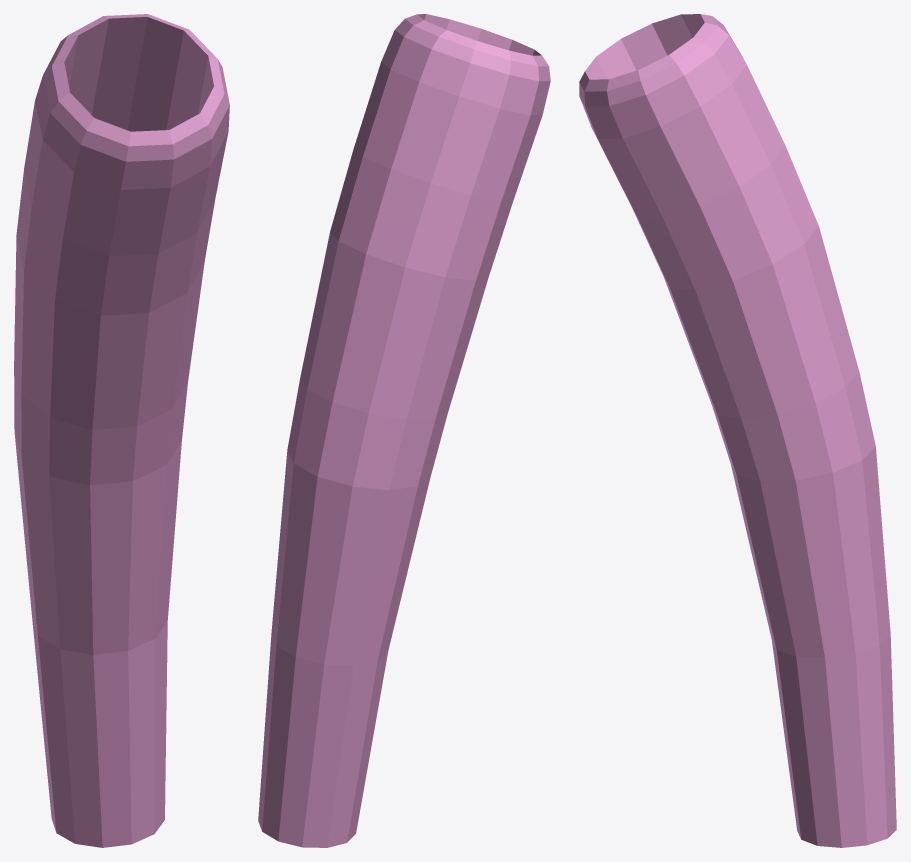
File: TubeCoralBent.fbx
3 renders of one model, left to right at view 1: azimuth 30°, elevation 25°; view 2: azimuth 150°, elevation 25°; view 3: azimuth 270°, elevation 25°, orthographic. The views are drawn at different scales.
Parts seen in each view (by area): view 1: TubeCoralRoof1; view 2: TubeCoralRoof1; view 3: TubeCoralRoof1.
Part boxes in pixels (left/top/right/bottom): TubeCoralRoof1: left=14, top=14, right=229, bottom=847; TubeCoralRoof1: left=258, top=14, right=550, bottom=847; TubeCoralRoof1: left=579, top=14, right=896, bottom=847.
Bounding box in the file's own units: 0.3826 × 0.5652 × 1.53.
